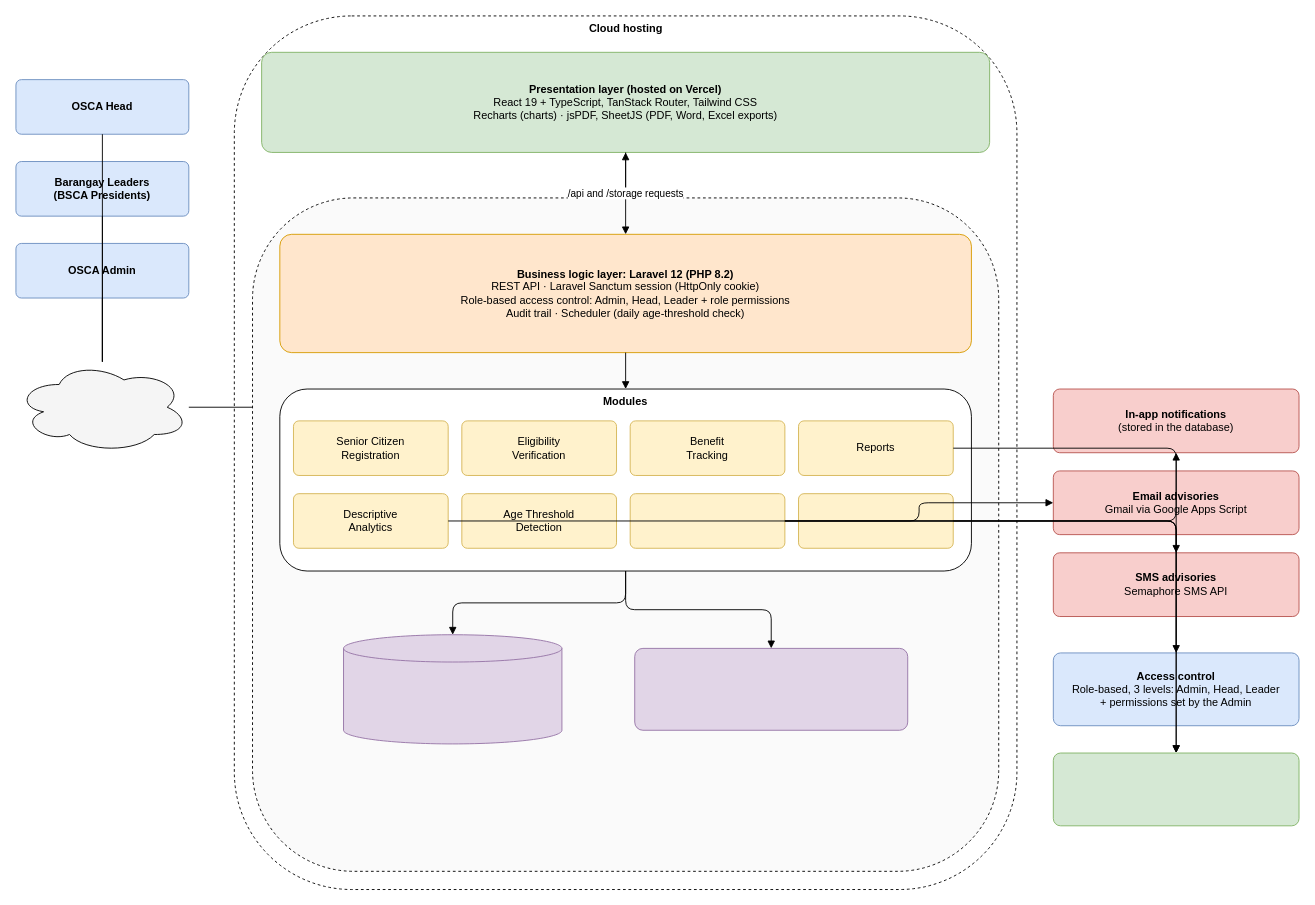
Image size: 1315x905. Some labels were removed from this diagram. The shapes that lost their labels are listed below. From the top down, each one's box as (x1, y1, x2, y2) in pixels, then its label:
(15, 361, 189, 453): Internet (web browser on desktop, Android, or iOS)
(252, 197, 999, 871): Hosted on Railway
(629, 493, 785, 548): Notifications
(798, 493, 953, 548): User Roles and Access Control
(343, 634, 562, 744): Data layer MySQL 8.0 database
(634, 647, 908, 730): Private file storage senior documents, release proofs, message attachments
(1052, 752, 1299, 826): Analytics Charts, graphs, tables, and reports (print, PDF, Word, Excel)
